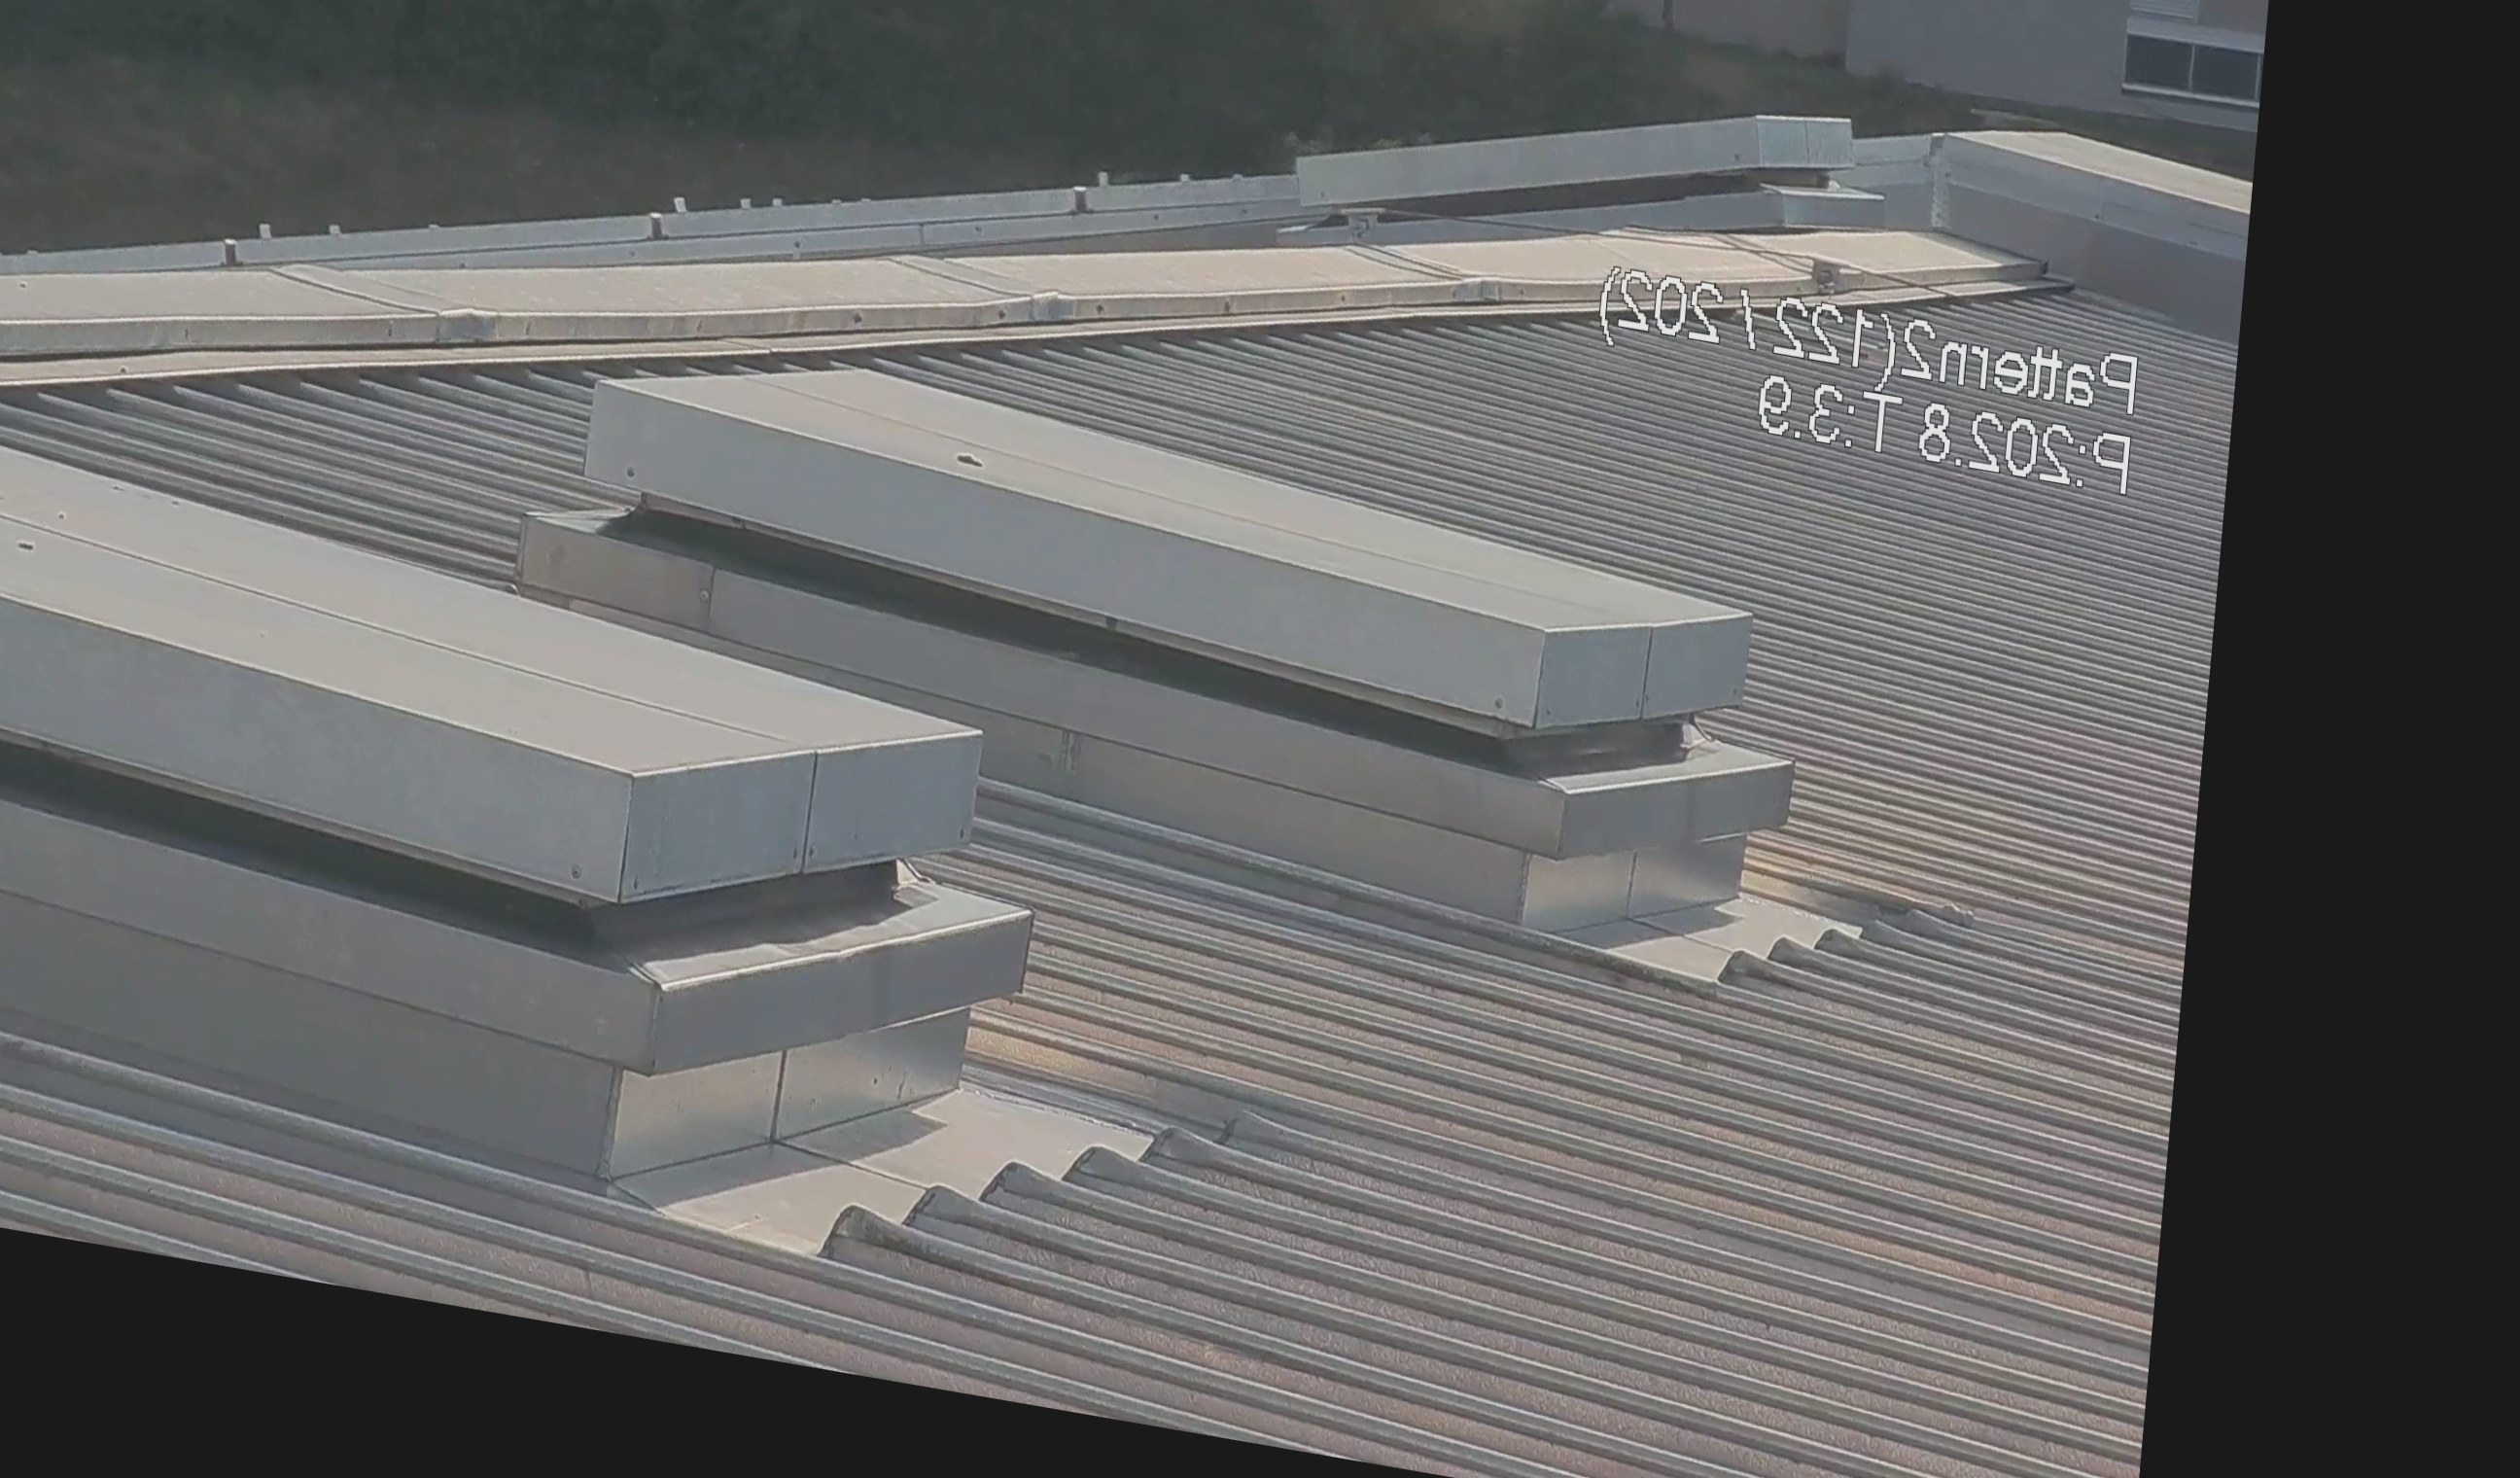Other: (1532, 0, 1792, 33)
